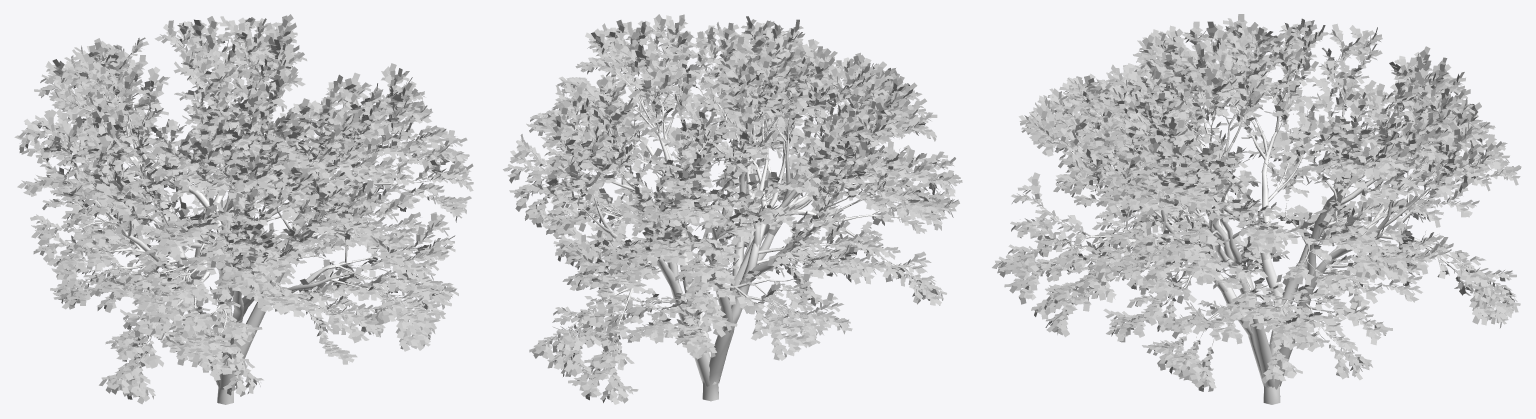
The picture shows the model from 3 angles, left to right: view 1: azimuth 30°, elevation 25°; view 2: azimuth 150°, elevation 25°; view 3: azimuth 270°, elevation 25°; orthographic projection. The views are drawn at different scales.
Parts seen in each view (by area): view 1: leaves.002, tree.001; view 2: leaves.002, tree.001; view 3: leaves.002, tree.001.
Part boxes in pixels (bbox=[...]): leaves.002: bbox=[14, 14, 473, 404]; tree.001: bbox=[36, 30, 456, 404]; leaves.002: bbox=[503, 14, 962, 404]; tree.001: bbox=[522, 32, 942, 401]; leaves.002: bbox=[992, 14, 1521, 391]; tree.001: bbox=[1014, 38, 1505, 404].
Size of the model in its own units: 1198 by 948 by 1320.
